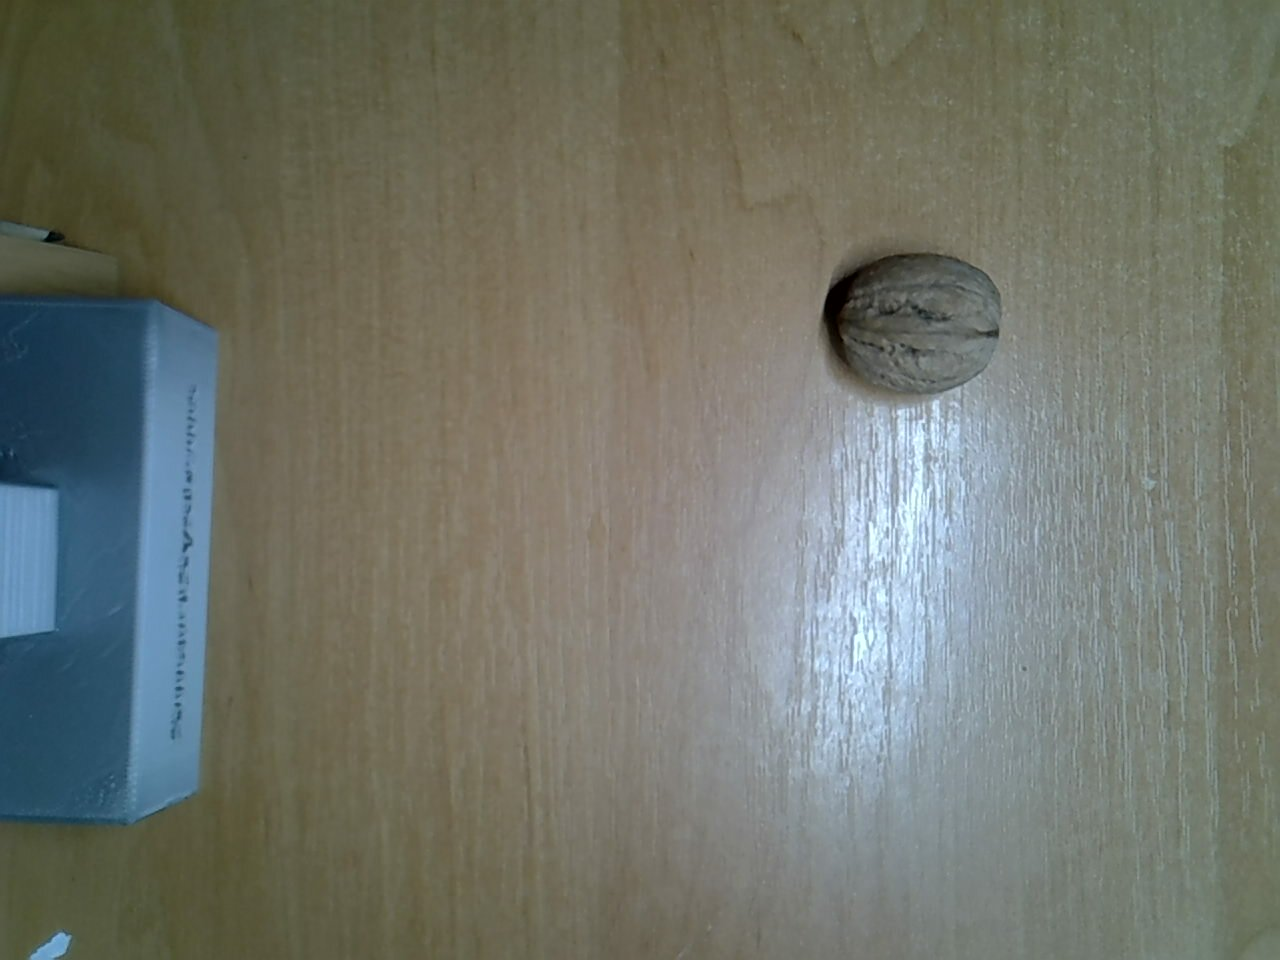nut: (824, 253, 1006, 397)
